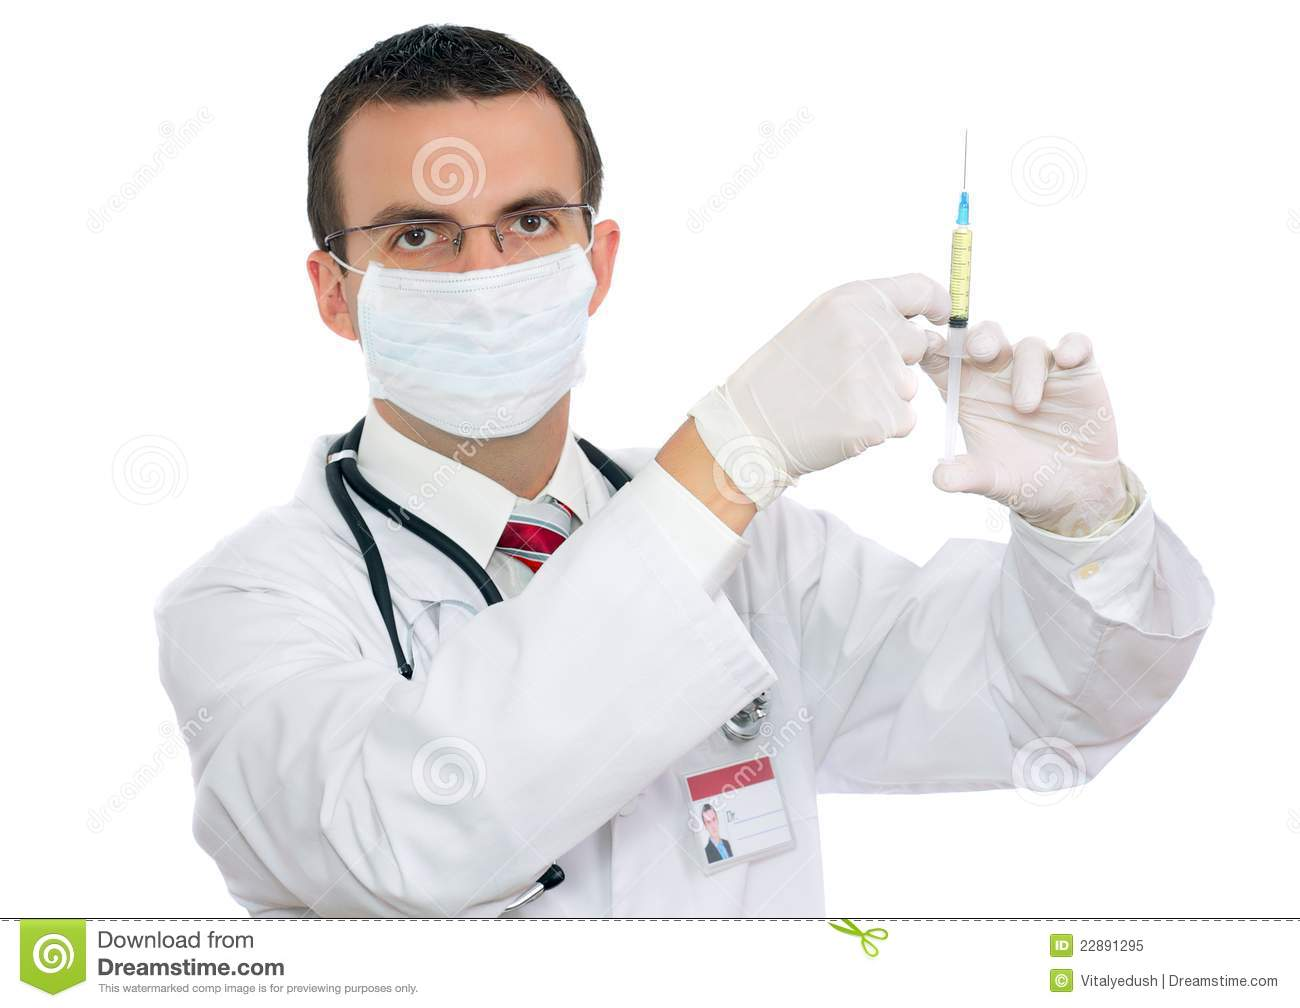mask: (364, 256, 595, 444)
